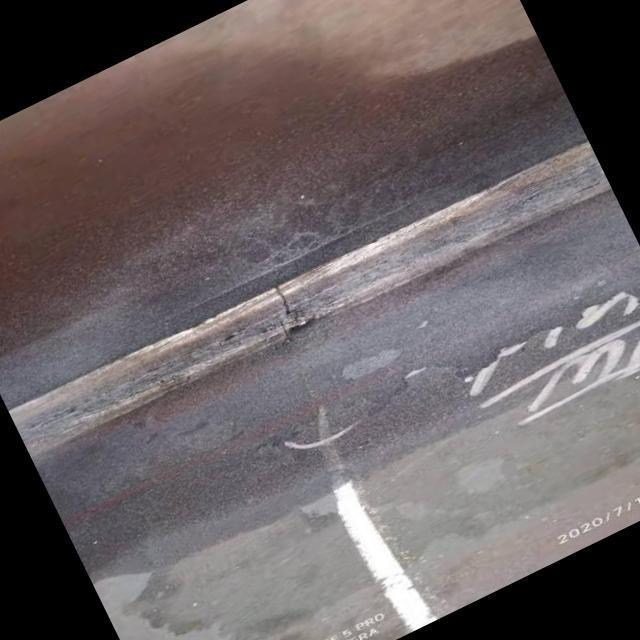defect: (269, 281, 304, 322)
